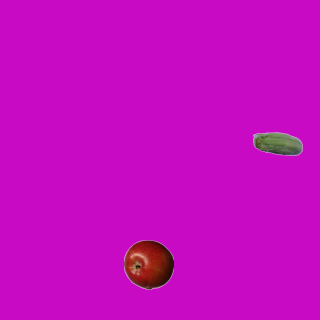Apple Braeburn: (123, 239, 173, 289)
Corn Husk: (252, 120, 302, 170)
